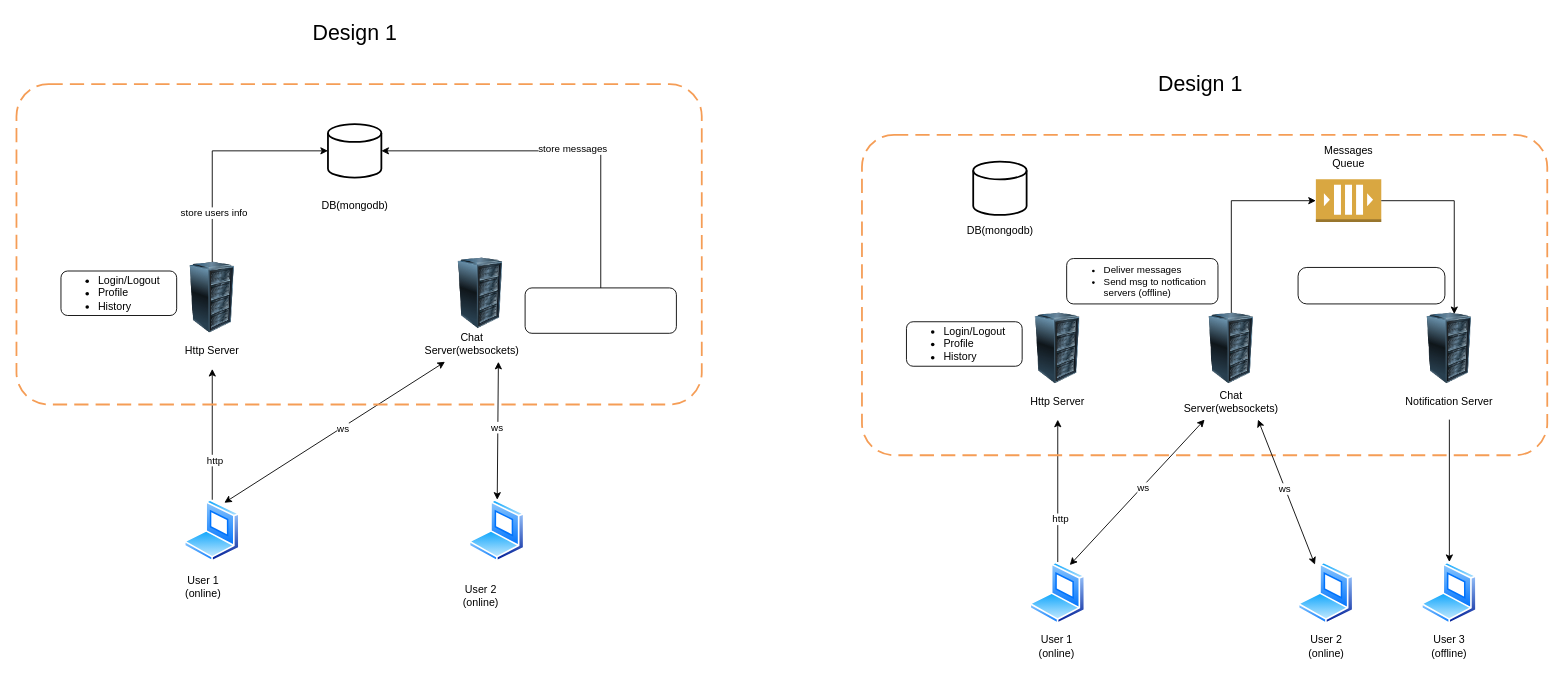
This 1563x675 diagram has some shape labels left out. The centre of each missing label's shape, as x and y in pixels:
"Deliver messages to connected users" goes at [600,310].
"Deliver messages to users when back online" goes at [1371,285].
